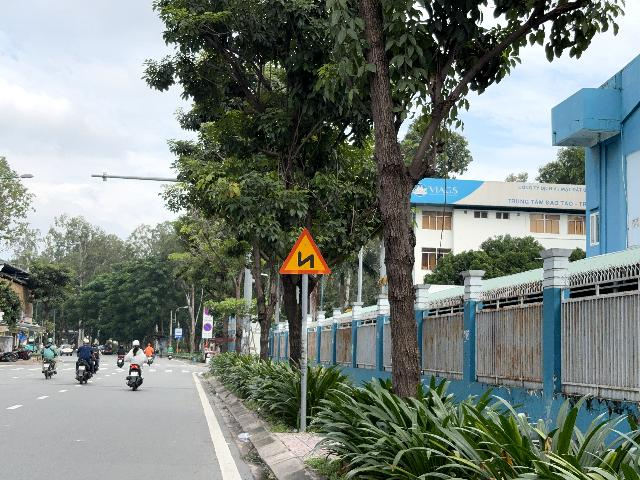nhieu-cho-ngoat-nguy-hiem-lien-tiep: (279, 229, 330, 274)
